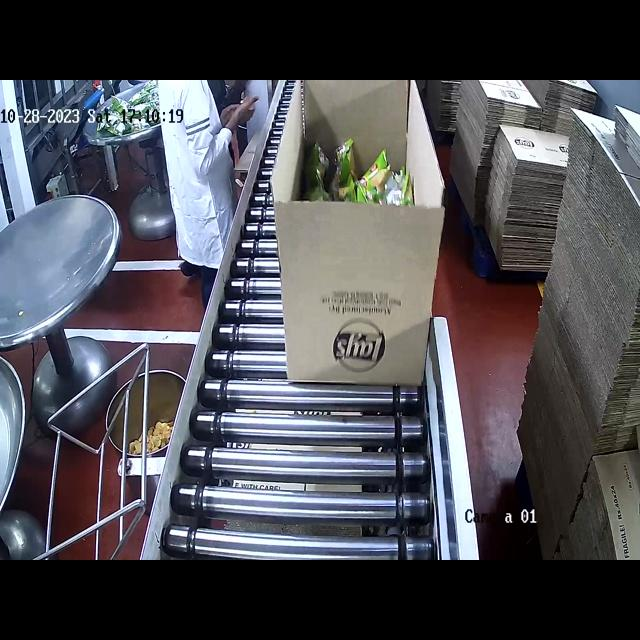yogurt: (298, 125, 422, 204)
